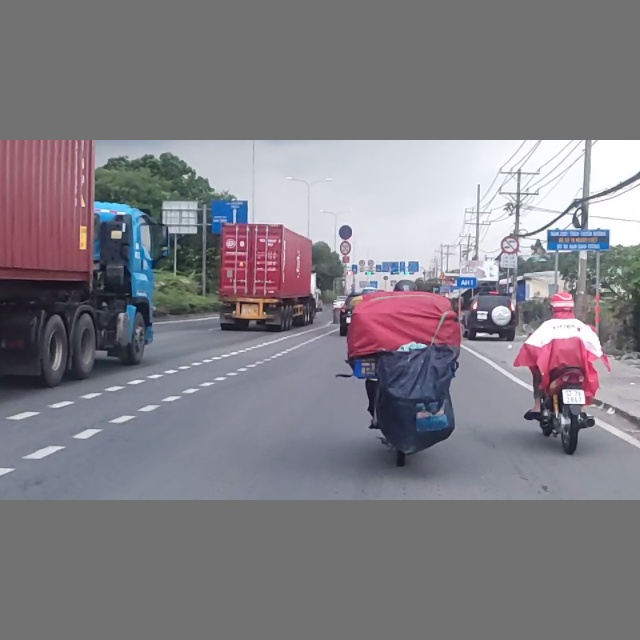P.107: (501, 236, 519, 253)
P.111: (341, 241, 351, 255)
P.130: (338, 224, 353, 239)
